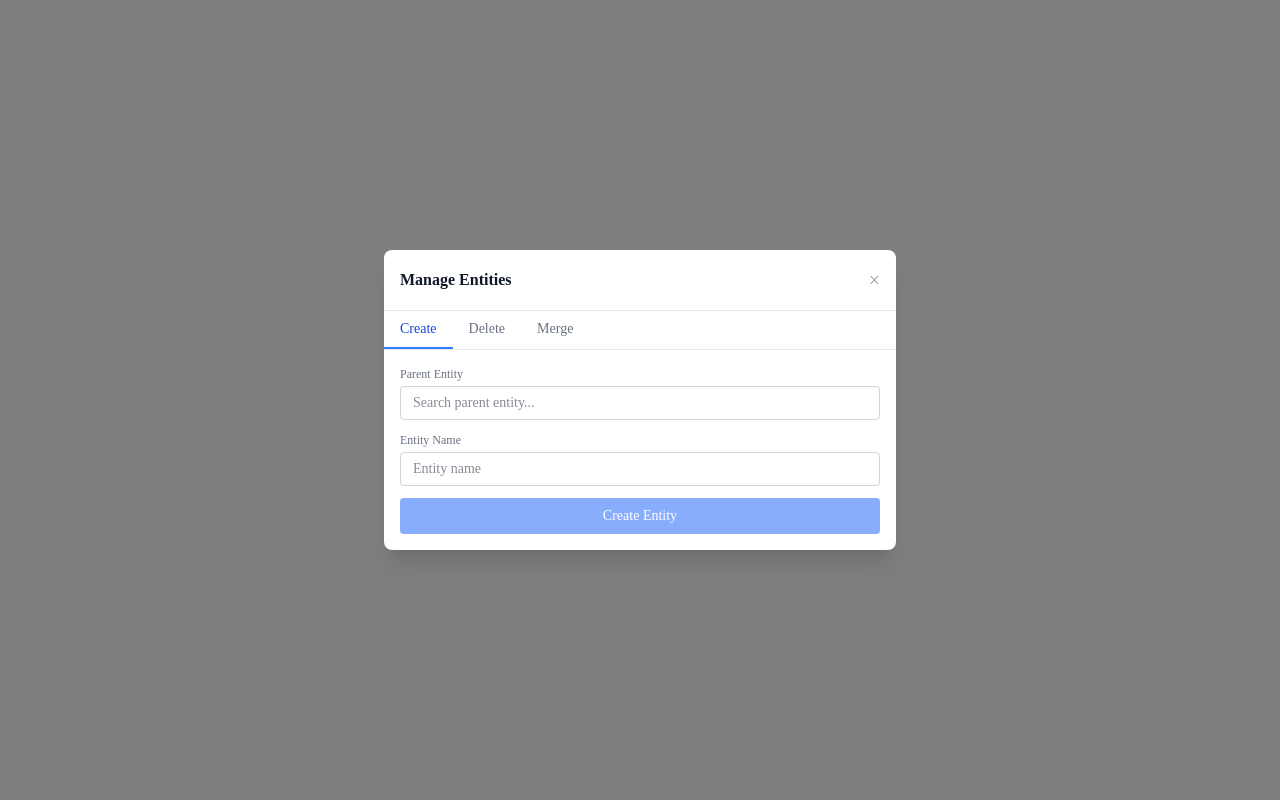
Test: ManageEntitiesModal › validates self-merge
This screenshot has width=1280, height=800.
Step 1. Click the button "Merge" → (555, 330), box [521,311,589,349]
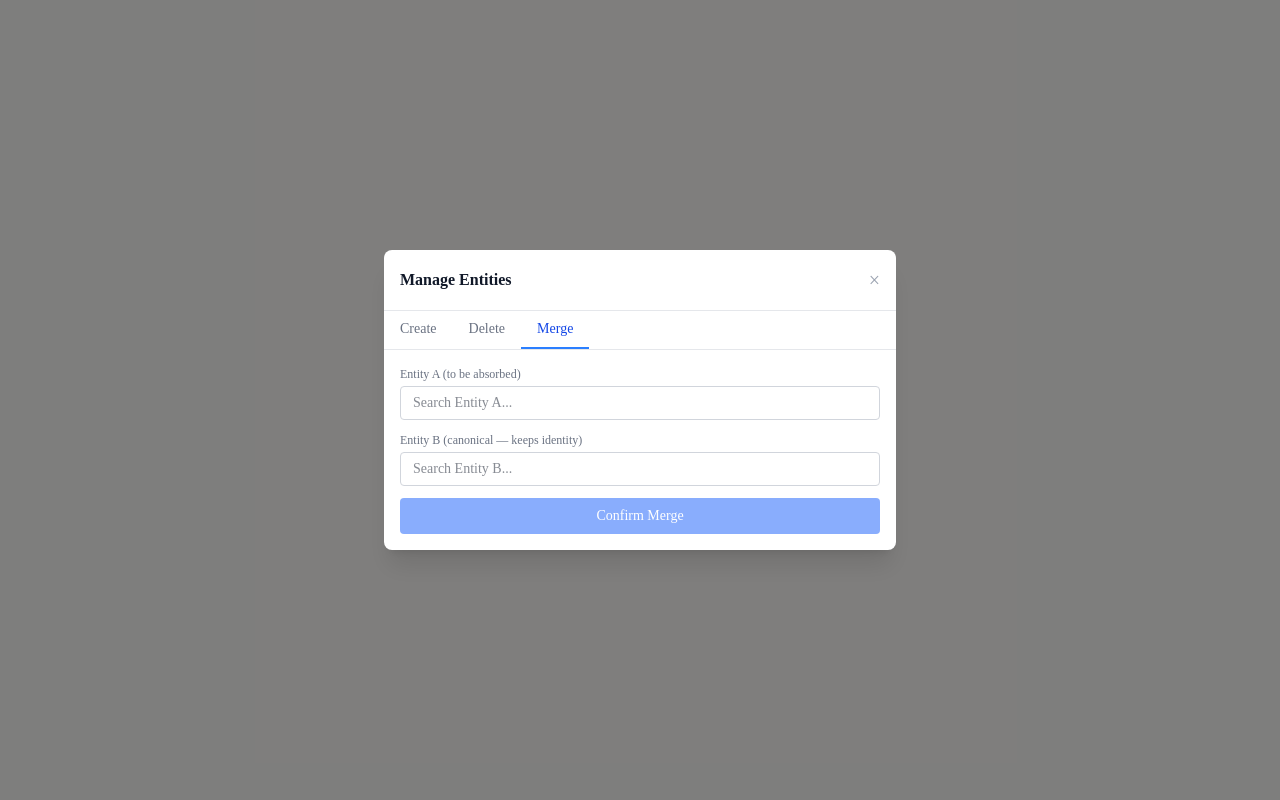
Select entity A
Step 2. Type "onc" into the field with placeholder "Search Entity A..." → (640, 403), box [400,386,880,420]
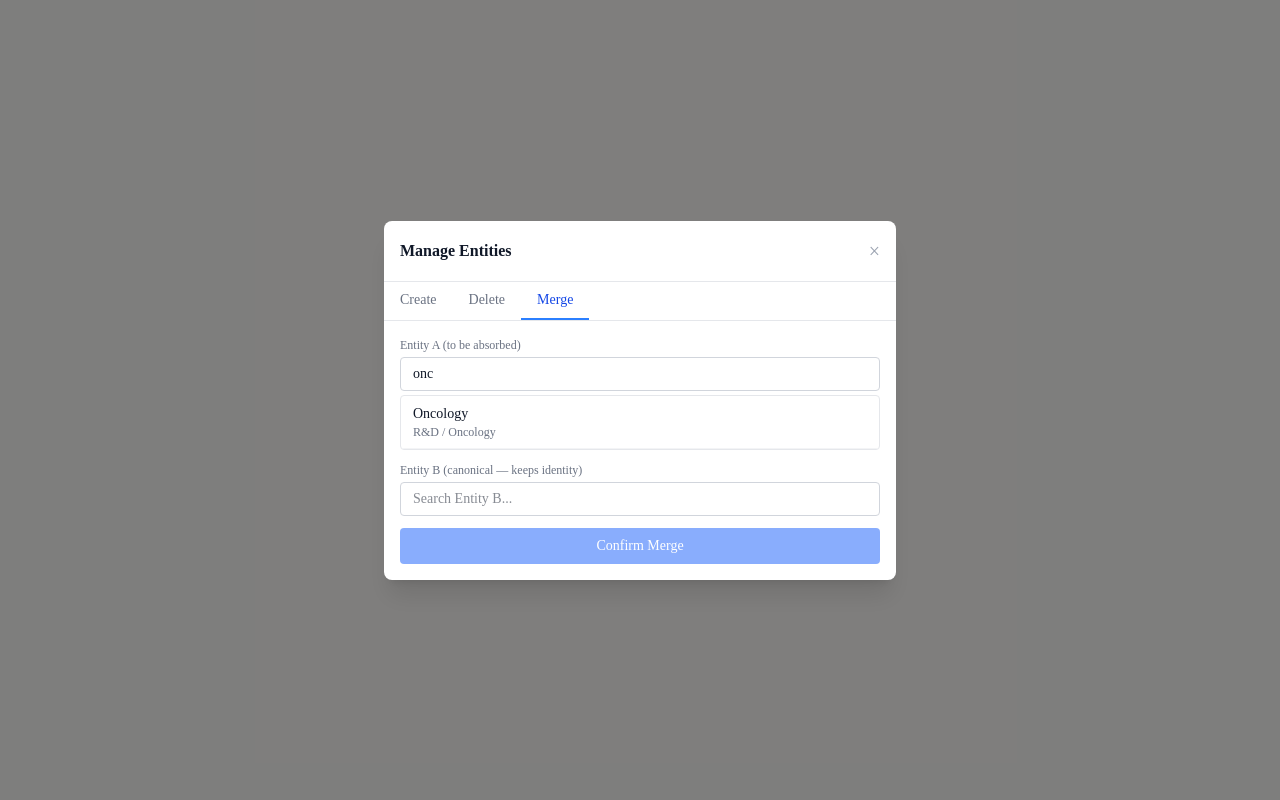
Step 3. Click the text "Oncology" → (441, 413), box [413,406,468,420]
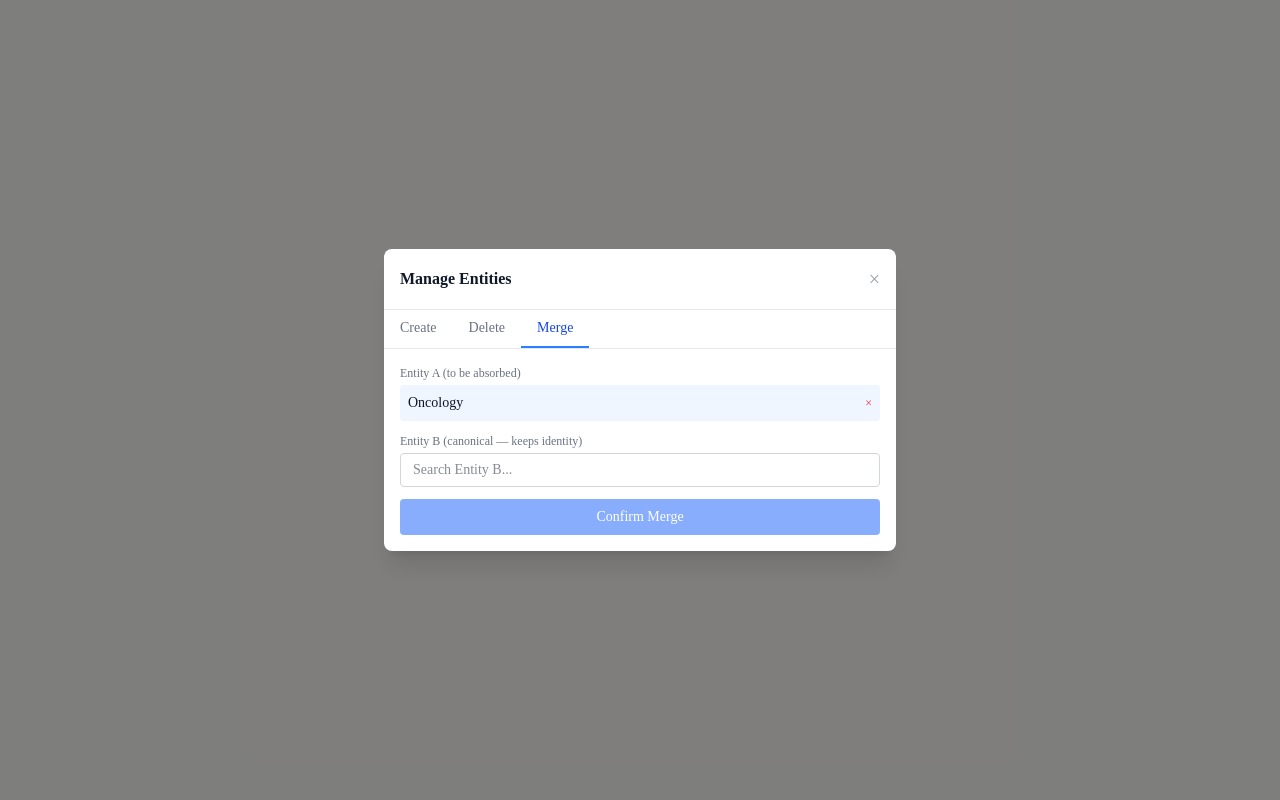
Step 4. Type "onc" into the field with placeholder "Search Entity B..." → (640, 470), box [400,453,880,487]
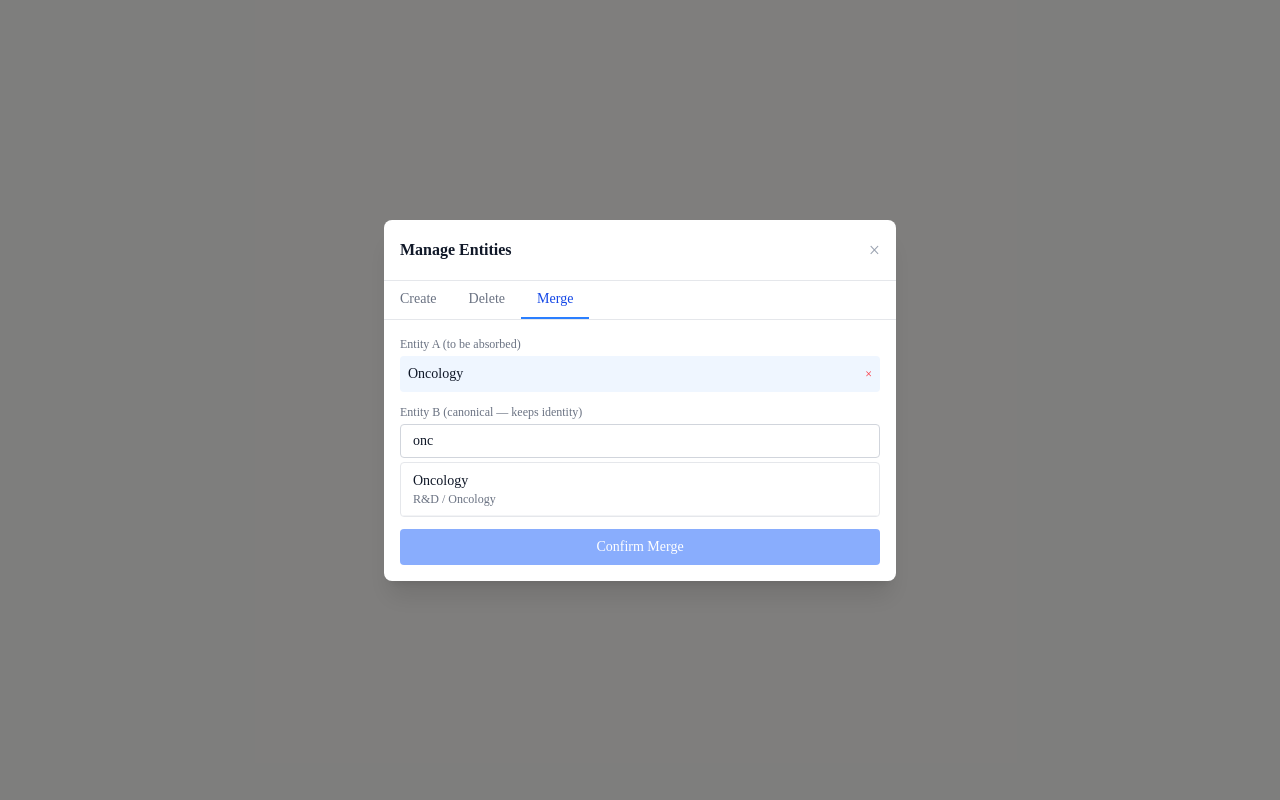
Click the last one (in the B dropdown)
Step 5. Click the text "Oncology" below "Entity B (canonical — keeps identity)" → (441, 480), box [413,472,468,488]
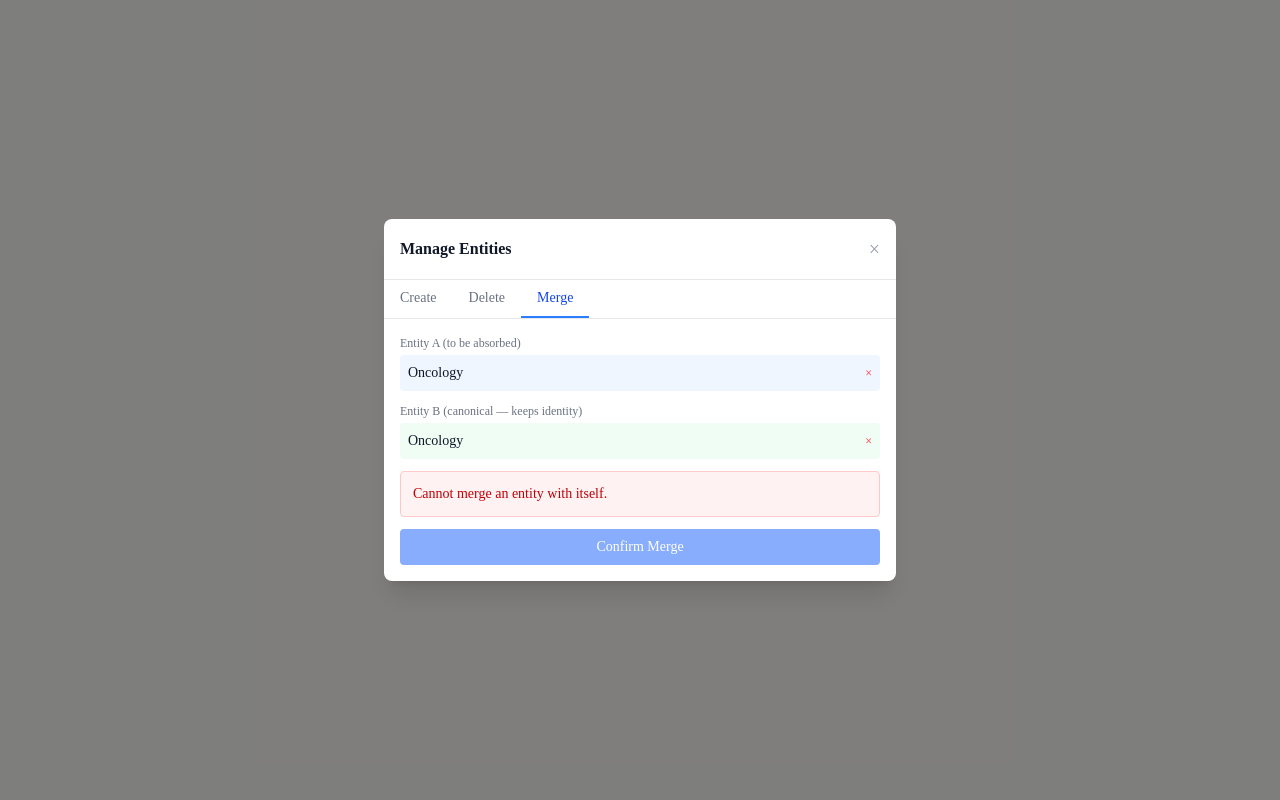
Result: the text "Cannot merge an entity with itself." is shown at [400,471,880,517]
